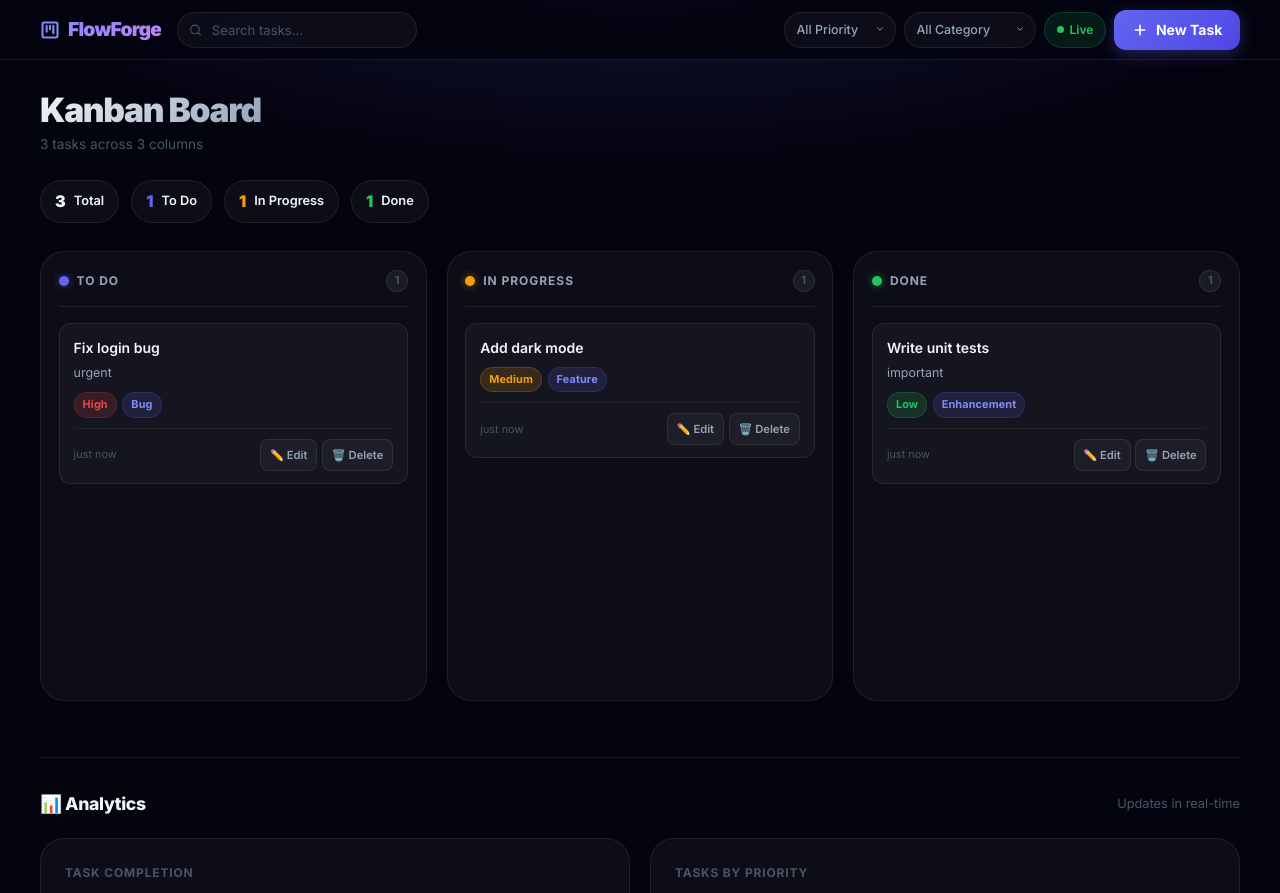
Test: KanbanBoard › opens create-task modal when + New Task is clicked
Click the button with test id "new-task-btn".
click(1177, 30)  # box x1=1114 y1=10 x2=1240 y2=50
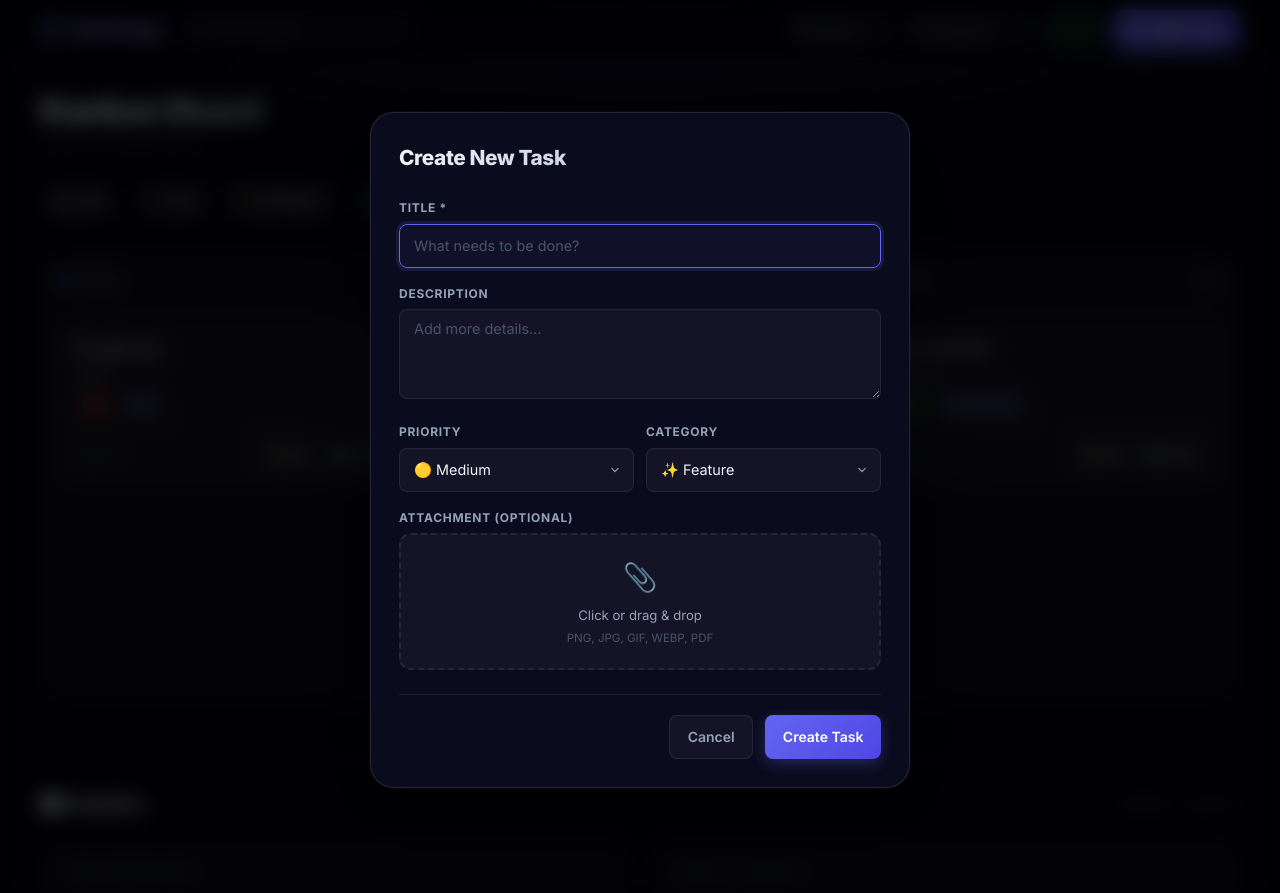
Check: the form with test id "task-form" is shown, box x1=399 y1=141 x2=881 y2=759
